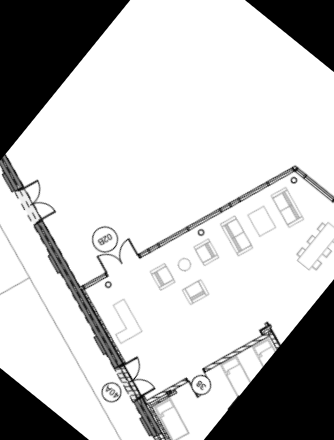double door: (89, 227, 146, 286), (10, 175, 66, 230), (112, 350, 165, 402), (329, 181, 334, 230)
wall: (195, 303, 282, 396)
